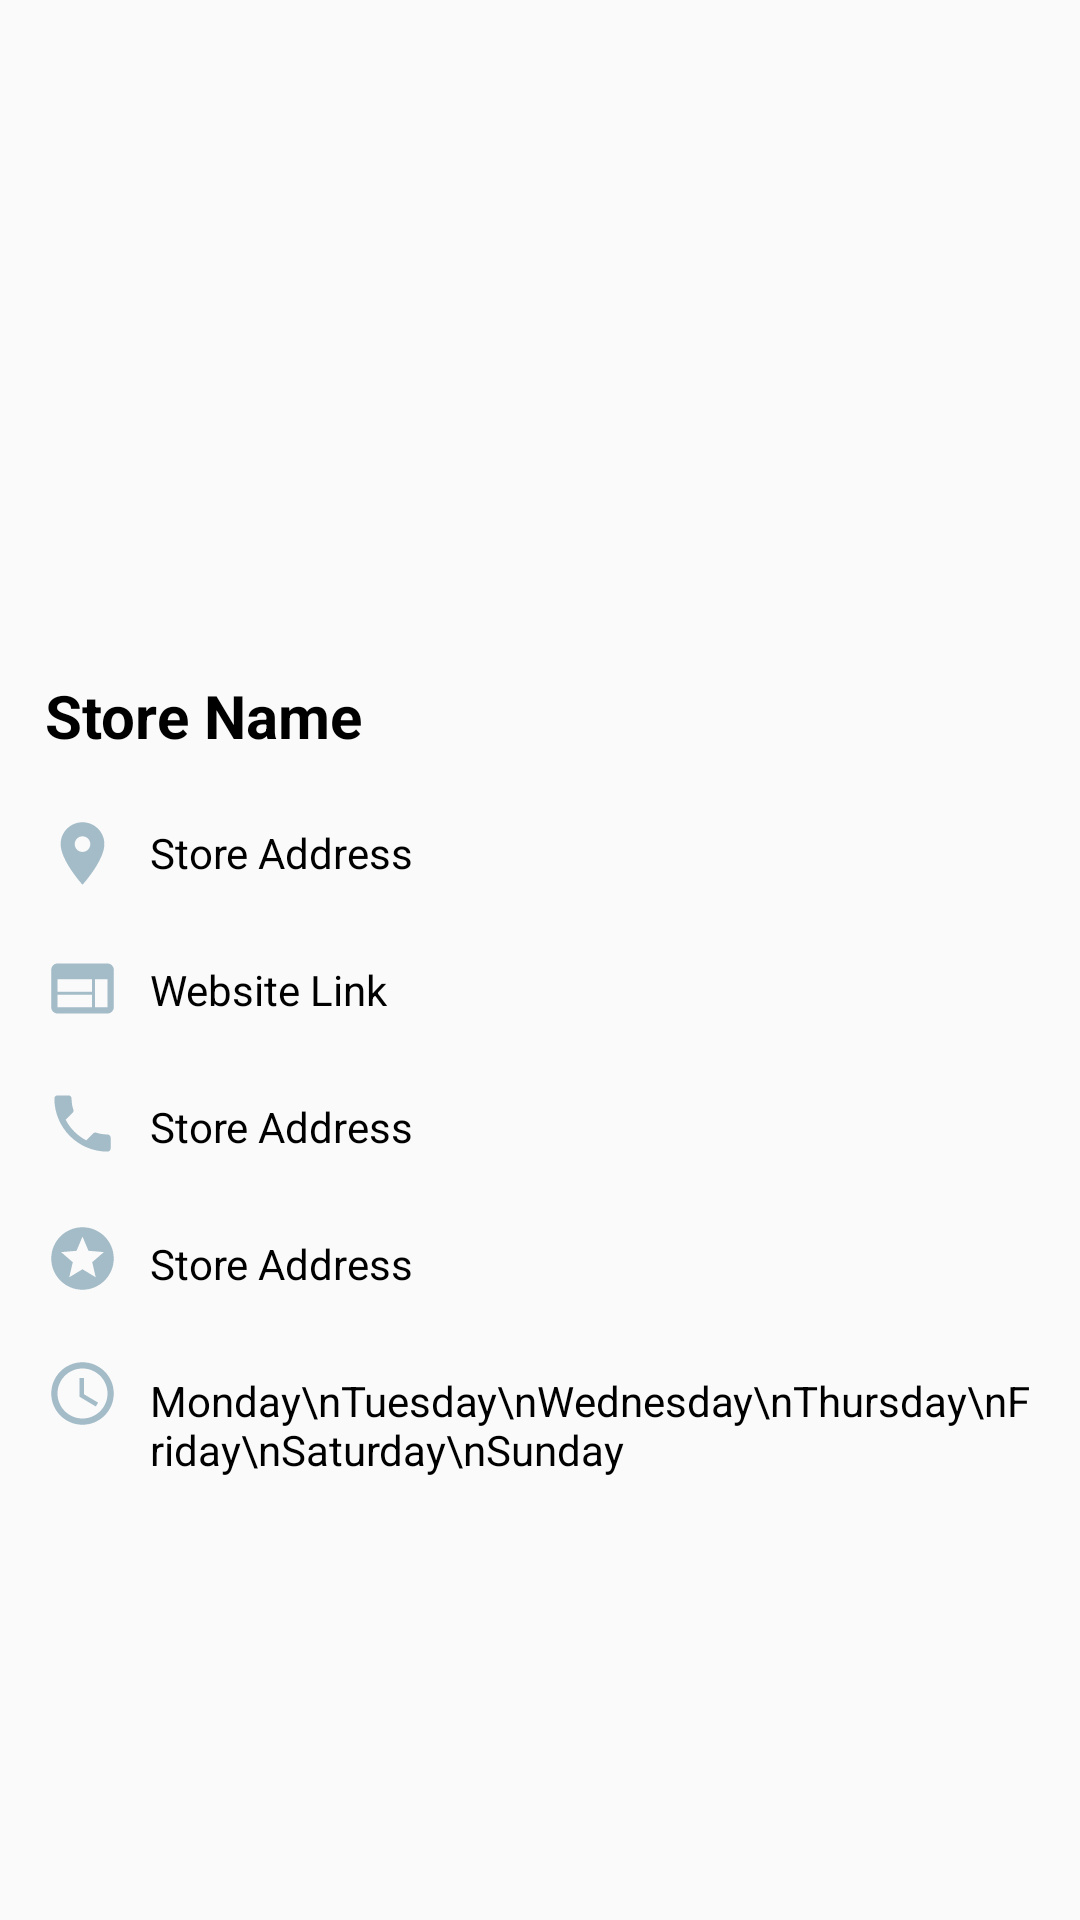

Named icons in this screenshot (1080w x 1920h) and their bounding boxes, (x1,y1,x2,y2):
store hours: (51,1362,114,1425)
store phone: (54,1095,111,1152)
store rating: (51,1227,114,1290)
store website: (51,963,114,1014)
